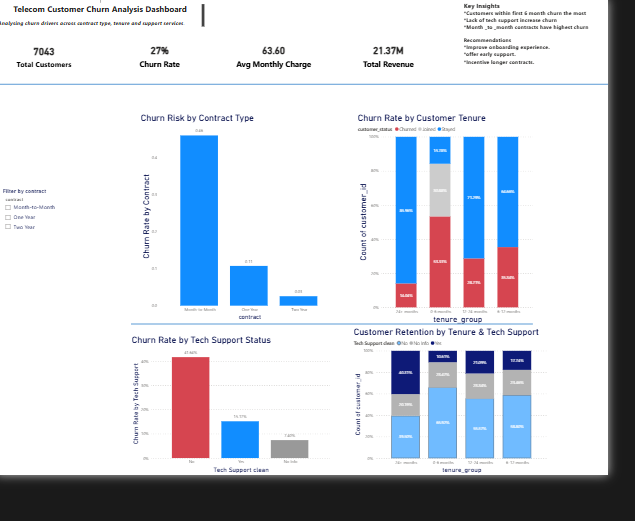

This screenshot's page, from the dashboard's own definition file:
{"tool":"powerbi","page":{"name":"Page 1","canvas":[1800,1400],"ordinal":0},"visuals":[{"type":"shape","box":[331.1,333.3,1255.6,1066.7],"z":0},{"type":"card","fields":{"Values":["public churn_analysis_view.Total Customers"]},"box":[0,116.7,282.2,95.6],"z":1000},{"type":"card","fields":{"Values":["public churn_analysis_view.Measure 2 Churn Rate"]},"box":[339.8,116.7,280,95.6],"z":2000},{"type":"hundredPercentStackedColumnChart","title":" Churn Rate by Customer Tenure ","fields":{"Category":["public churn_analysis_view.tenure_group"],"Series":["public churn_analysis_view.customer_status"],"Y":["Count(public churn_analysis_view.customer_id)"]},"box":[1060,333.3,526.7,628.9],"z":3000},{"type":"clusteredColumnChart","title":"Churn Rate by Tech Support Status","fields":{"Y":["public churn_analysis_view.Churn Rate percentage"],"Category":["public churn_analysis_view.Tech Support clean"]},"box":[395.4,986.2,593.8,413.8],"z":4000},{"type":"card","fields":{"Values":["public churn_analysis_view.Total Revenue"]},"box":[1015,116.7,278.3,96.7],"z":5000},{"type":"card","fields":{"Values":["public churn_analysis_view.Avg Monthly Charge"]},"box":[677.4,116.7,280,96.7],"z":6000},{"type":"hundredPercentStackedColumnChart","title":"Customer Retention by Tenure & Tech Support","fields":{"Category":["public churn_analysis_view.tenure_group"],"Y":["CountNonNull(public churn_analysis_view.customer_id)"],"Series":["public churn_analysis_view.Tech Support clean"]},"box":[1047.1,961.8,579.4,438.2],"z":7000},{"type":"slicer","title":"Filter by contract","fields":{"Values":["public churn_analysis_view.contract"]},"box":[15.6,555.6,253.3,144.4],"z":8000},{"type":"clusteredColumnChart","title":"Churn Risk by  Contract Type","fields":{"Category":["public churn_analysis_view.contract"],"Y":["public churn_analysis_view.Churn Rate by Contract"]},"box":[420.6,332.4,594.1,617.6],"z":9000},{"type":"textbox","box":[0,0,618.5,86.2],"z":10000},{"type":"textbox","box":[1371.1,0,428.9,231.1],"z":11000},{"type":"shape","box":[0,245,1800,13.3],"z":14000},{"type":"shape","box":[397.1,950,1182.4,11.8],"z":15000}]}

Visuals, with their boxes on the page's 1800x1400 design canvas (x1, y1, x2, y2). These are canvas units, not pixel positions in the 635x521 screenshot, which may show the page scaled, cropped or inside an application window:
shape: left=331, top=333, right=1587, bottom=1400
card - public churn_analysis_view.Total Customers: left=0, top=117, right=282, bottom=212
card - public churn_analysis_view.Measure 2 Churn Rate: left=340, top=117, right=620, bottom=212
" Churn Rate by Customer Tenure " hundredPercentStackedColumnChart: left=1060, top=333, right=1587, bottom=962
"Churn Rate by Tech Support Status" clusteredColumnChart: left=395, top=986, right=989, bottom=1400
card - public churn_analysis_view.Total Revenue: left=1015, top=117, right=1293, bottom=213
card - public churn_analysis_view.Avg Monthly Charge: left=677, top=117, right=957, bottom=213
"Customer Retention by Tenure & Tech Support" hundredPercentStackedColumnChart: left=1047, top=962, right=1626, bottom=1400
"Filter by contract" slicer: left=16, top=556, right=269, bottom=700
"Churn Risk by  Contract Type" clusteredColumnChart: left=421, top=332, right=1015, bottom=950
textbox: left=0, top=0, right=618, bottom=86
textbox: left=1371, top=0, right=1800, bottom=231
shape: left=0, top=245, right=1800, bottom=258
shape: left=397, top=950, right=1580, bottom=962
